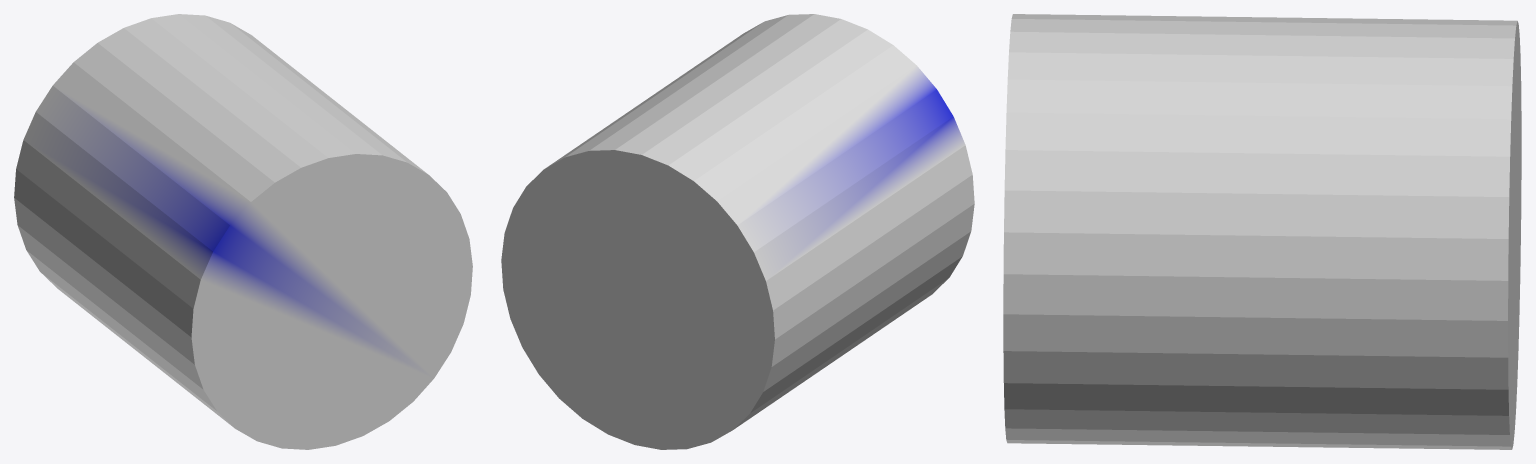
The picture shows the model from 3 angles, left to right: view 1: azimuth 30°, elevation 25°; view 2: azimuth 150°, elevation 25°; view 3: azimuth 270°, elevation 25°; orthographic projection. The views are drawn at different scales.
Parts seen in each view (by area): view 1: Cylinder.001; view 2: Cylinder.001; view 3: Cylinder.001.
Boxes of the visible parts, box(x1,y1,x2,y2) form: Cylinder.001: box(14, 14, 472, 449); Cylinder.001: box(501, 14, 974, 449); Cylinder.001: box(1003, 14, 1521, 449).
Bounding box in the file's own units: 259 × 250 × 301.
